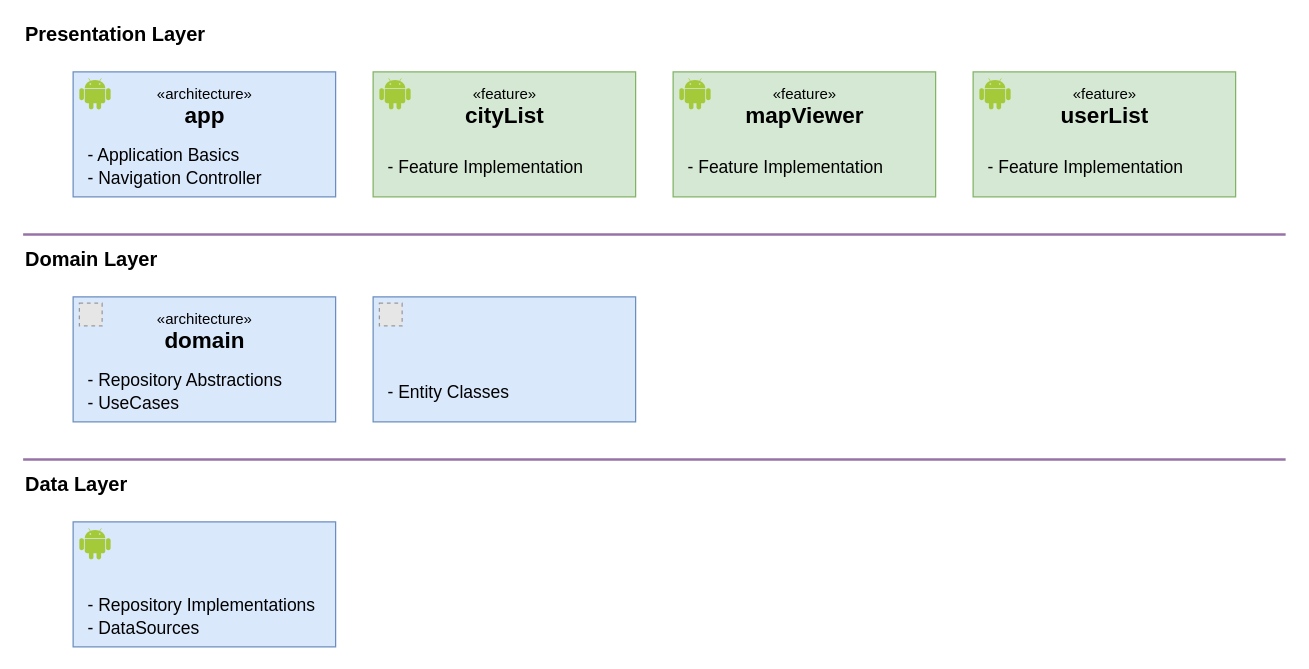
Image size: 1309x669. Some labels were removed from this diagram. Grey dashed boxes stand in for pictures. Here are the shapes that lost their labels. From the top down, the box of each, then its label:
(372, 296, 636, 422): «architecture» model
(72, 521, 336, 647): «architecture» data
